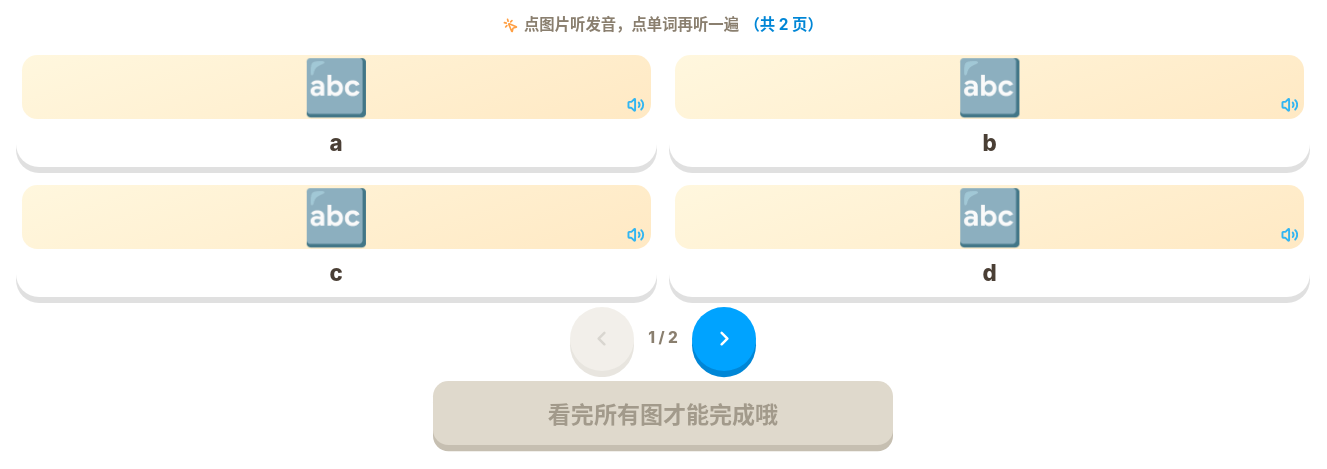
Test: LearnStage（点读覆盖率星级 + 全点过才能完成） › 未到末页时完成按钮禁用；翻到末页但没点完 → 仍禁用并提示还差几个
Expected: the button with class "next" is disabled, x1=433 y1=381 x2=893 y2=445
Click the button named "下一页".
click(724, 339)  # box x1=692 y1=307 x2=756 y2=371
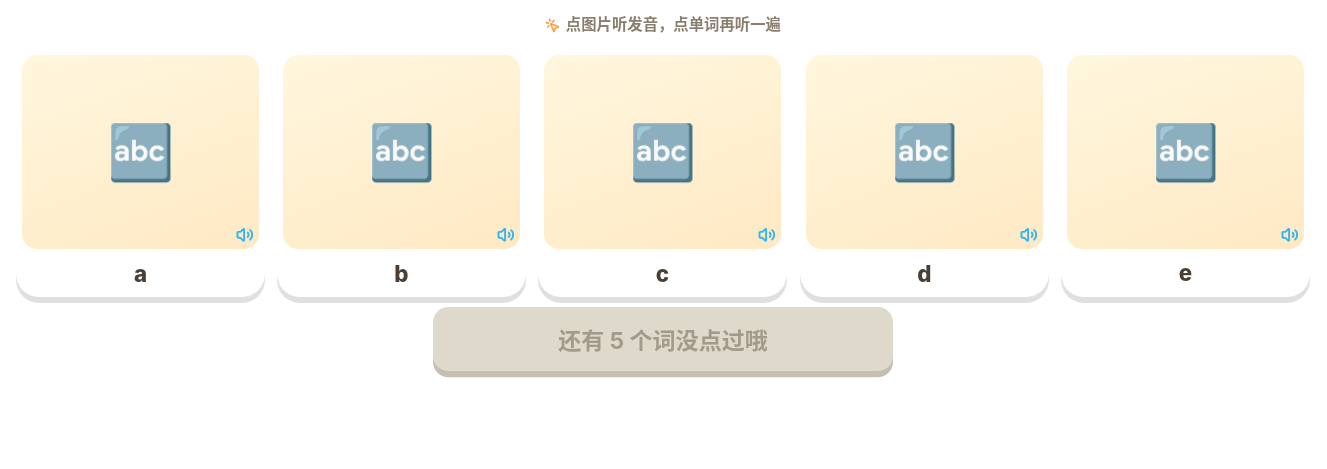
Expected: the button with class "next" is disabled, x1=433 y1=307 x2=893 y2=371
Result: the button with class "next" shows "还有 5 个词没点过" at x1=433 y1=307 x2=893 y2=371
